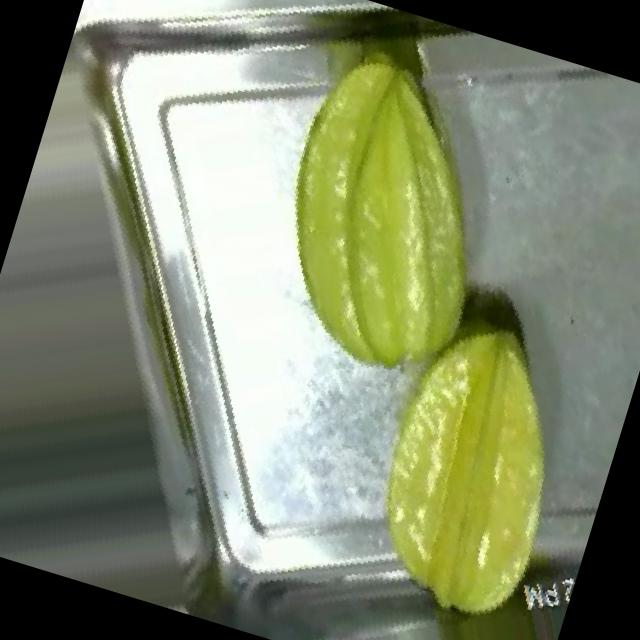fruit: (179, 0, 589, 427), (270, 254, 640, 640)
